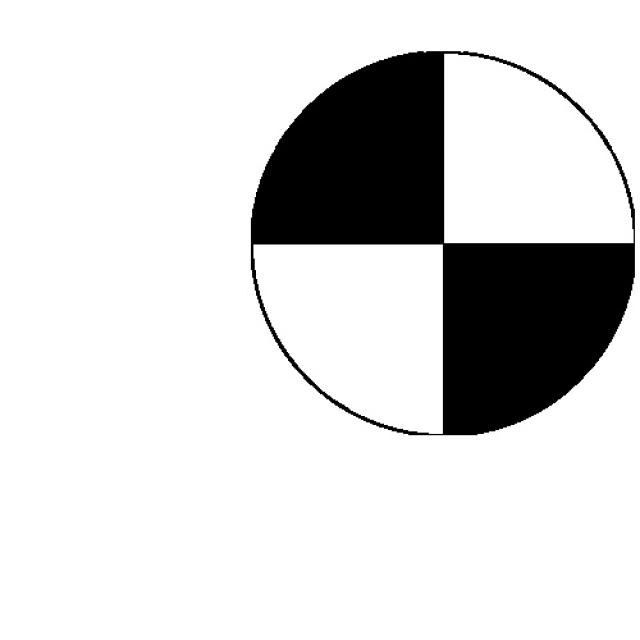Marcadores: (255, 52, 629, 435)
